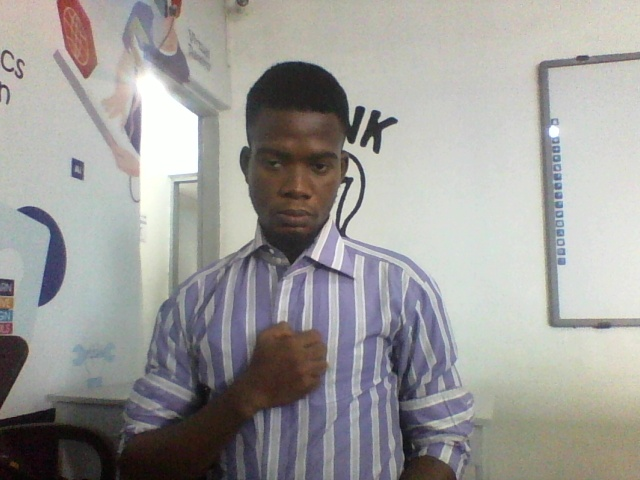sorry: (168, 320, 334, 443)
